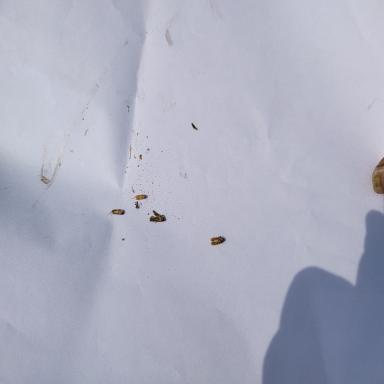pbw: (149, 209, 165, 222), (130, 194, 148, 204), (210, 236, 224, 246), (106, 209, 124, 216)
